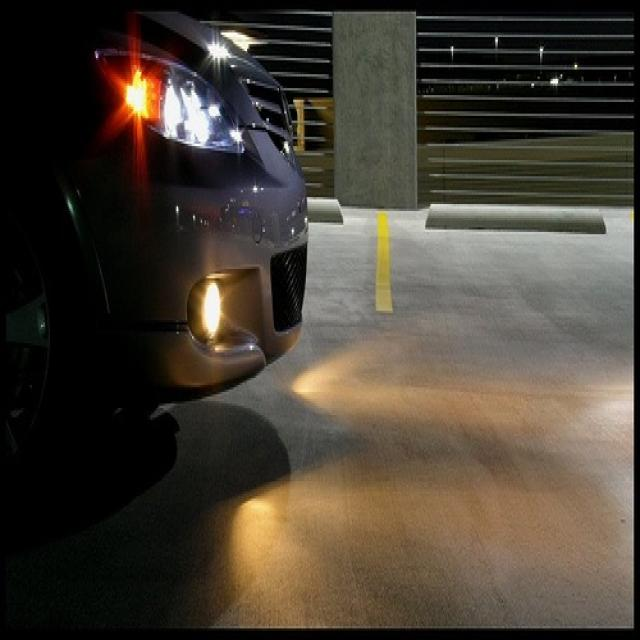car: (2, 2, 308, 410)
